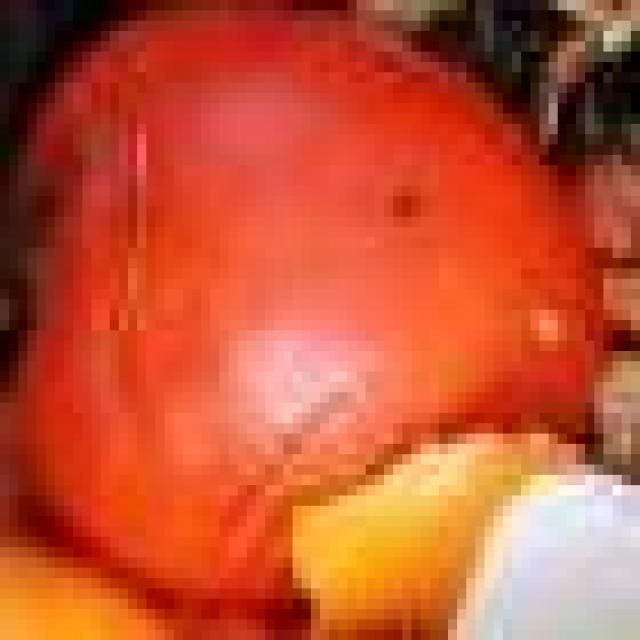food waste: (2, 0, 640, 629)
